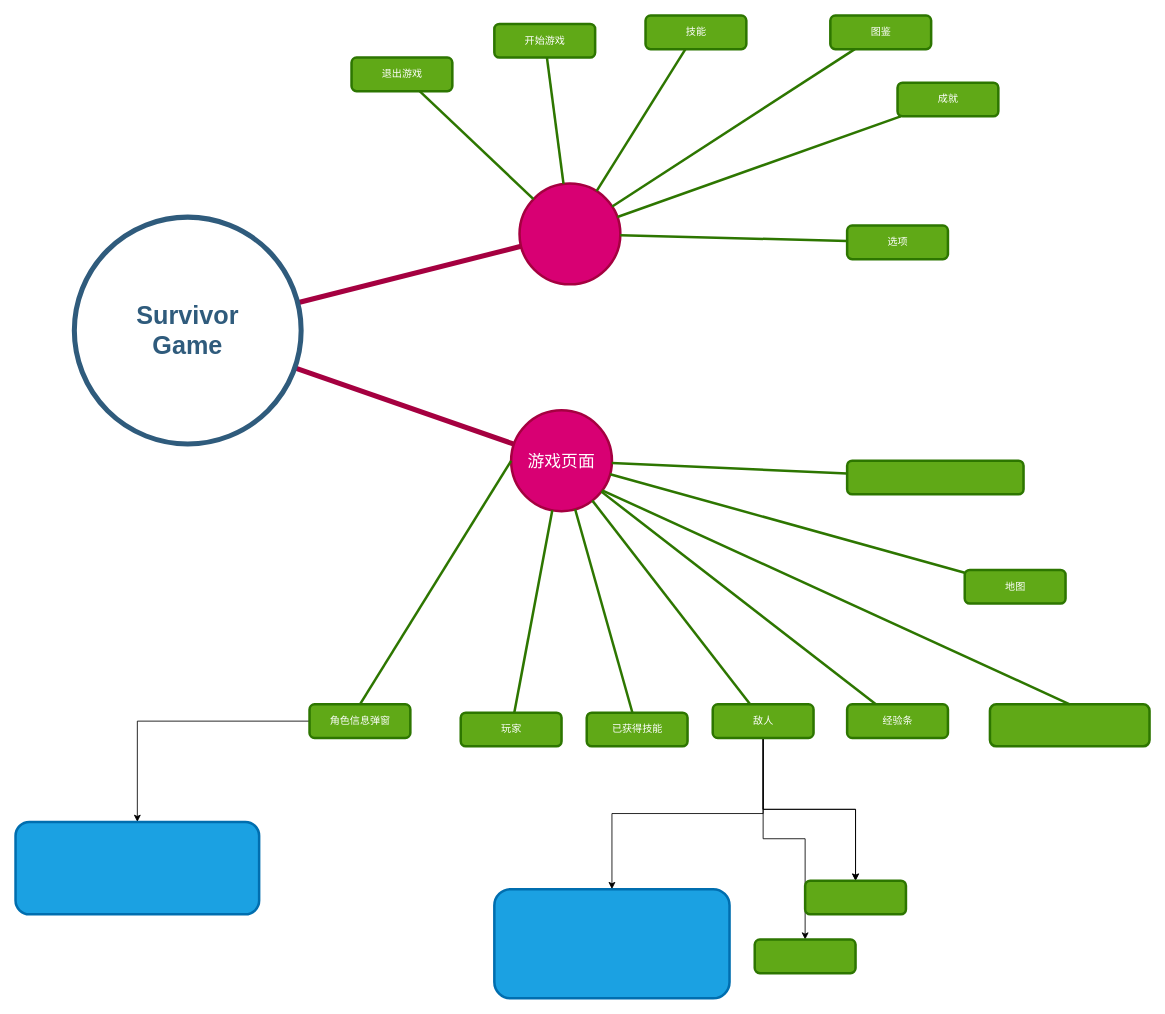
Some shapes in this 1165 by 1014 pixel diagram are drawn without their labels. The shapes that lost their labels are listed below. From the top down, each one's box as (x1, y1, x2, y2) in pixels, then its label:
(518, 182, 621, 285): 开始页面
(845, 459, 1024, 495): 倒计时 （时间结束后，玩家胜利）
(988, 703, 1150, 747): 升级选择弹窗 （有多个选择框，点击选择技能）
(14, 820, 260, 915): 等级、血量、防御、移动速度、 攻击力、攻击速度、攻击范围、暴击率、暴击伤害、 冷却速度、掉落率、
(803, 879, 907, 915): 小怪
(493, 887, 730, 999): 出现在玩家一定范围内， 可能多个形成一个环形包围
(753, 938, 856, 974): BOSS
